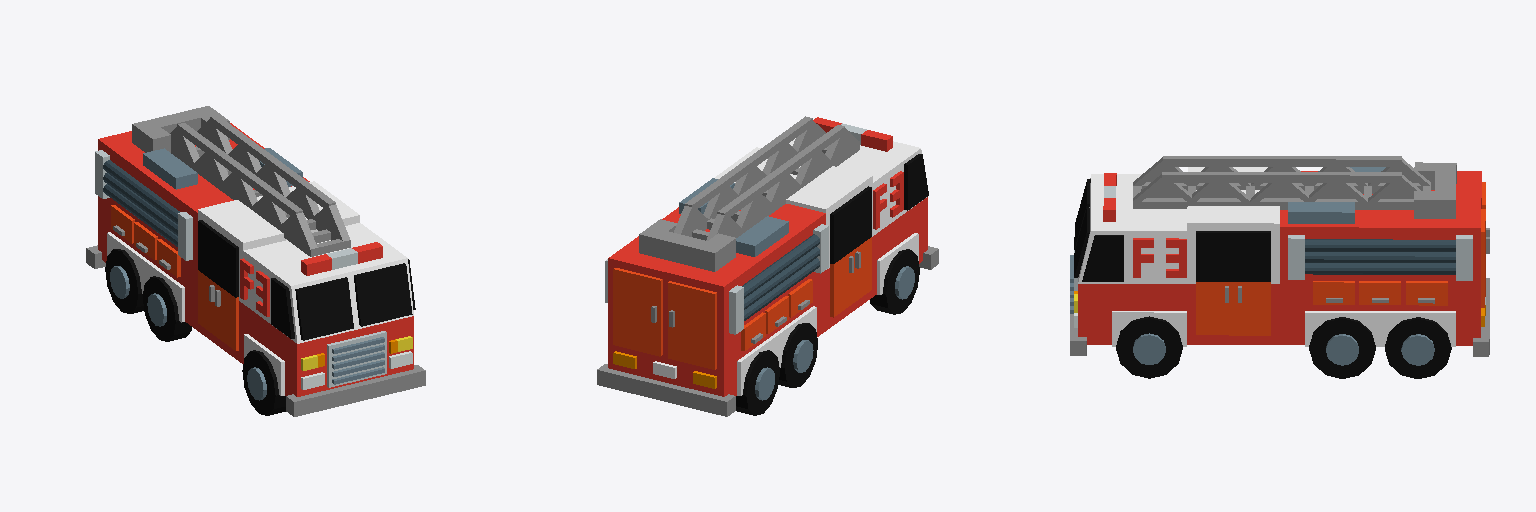
File: Fire-Truck-2.obj
3 renders of one model, left to right at view 1: azimuth 30°, elevation 25°; view 2: azimuth 150°, elevation 25°; view 3: azimuth 270°, elevation 25°, orthographic.
Parts seen in each view (by area): view 1: mesh[number redacted], mesh[number redacted], mesh[number redacted], mesh[number redacted], mesh[number redacted], mesh[number redacted], mesh[number redacted], mesh[number redacted], mesh[number redacted], mesh[number redacted], mesh[number redacted], mesh[number redacted] (+22 smaller); view 2: mesh[number redacted], mesh[number redacted], mesh[number redacted], mesh[number redacted], mesh[number redacted], mesh[number redacted], mesh[number redacted], mesh[number redacted], mesh[number redacted], mesh[number redacted], mesh[number redacted], mesh[number redacted] (+20 smaller); view 3: mesh[number redacted], mesh[number redacted], mesh[number redacted], mesh[number redacted], mesh[number redacted], mesh[number redacted], mesh[number redacted], mesh[number redacted], mesh[number redacted], mesh[number redacted], mesh[number redacted], mesh[number redacted] (+24 smaller).
Boxes of the visible parts, <box> form: mesh[number redacted]: <box>98,123,309,330</box>; mesh[number redacted]: <box>243,223,413,343</box>; mesh[number redacted]: <box>198,301,413,396</box>; mesh[number redacted]: <box>198,181,359,302</box>; mesh[number redacted]: <box>354,263,412,326</box>; mesh[number redacted]: <box>295,277,353,340</box>; mesh[number redacted]: <box>286,365,425,416</box>; mesh[number redacted]: <box>198,220,238,297</box>; mesh[number redacted]: <box>198,270,238,350</box>; mesh[number redacted]: <box>210,115,335,211</box>; mesh[number redacted]: <box>177,123,302,215</box>; mesh[number redacted]: <box>143,276,191,341</box>; mesh[number redacted]: <box>608,204,825,396</box>; mesh[number redacted]: <box>613,268,662,356</box>; mesh[number redacted]: <box>668,281,716,369</box>; mesh[number redacted]: <box>715,147,872,269</box>; mesh[number redacted]: <box>597,364,735,416</box>; mesh[number redacted]: <box>826,197,927,330</box>; mesh[number redacted]: <box>639,227,725,271</box>; mesh[number redacted]: <box>789,138,926,235</box>; mesh[number redacted]: <box>830,186,871,263</box>; mesh[number redacted]: <box>830,237,871,317</box>; mesh[number redacted]: <box>685,116,812,212</box>; mesh[number redacted]: <box>717,125,844,216</box>; mesh[number redacted]: <box>1280,171,1481,345</box>; mesh[number redacted]: <box>1078,284,1279,344</box>; mesh[number redacted]: <box>1078,174,1186,283</box>; mesh[number redacted]: <box>1196,282,1270,335</box>; mesh[number redacted]: <box>1196,231,1270,281</box>; mesh[number redacted]: <box>1187,167,1279,283</box>; mesh[number redacted]: <box>1163,156,1401,166</box>; mesh[number redacted]: <box>1162,172,1401,182</box>; mesh[number redacted]: <box>1305,311,1455,346</box>; mesh[number redacted]: <box>1116,316,1182,378</box>; mesh[number redacted]: <box>1309,317,1375,378</box>; mesh[number redacted]: <box>1385,317,1451,378</box>.
Size of the model in its own units: 2.62 by 3.27 by 6.83.